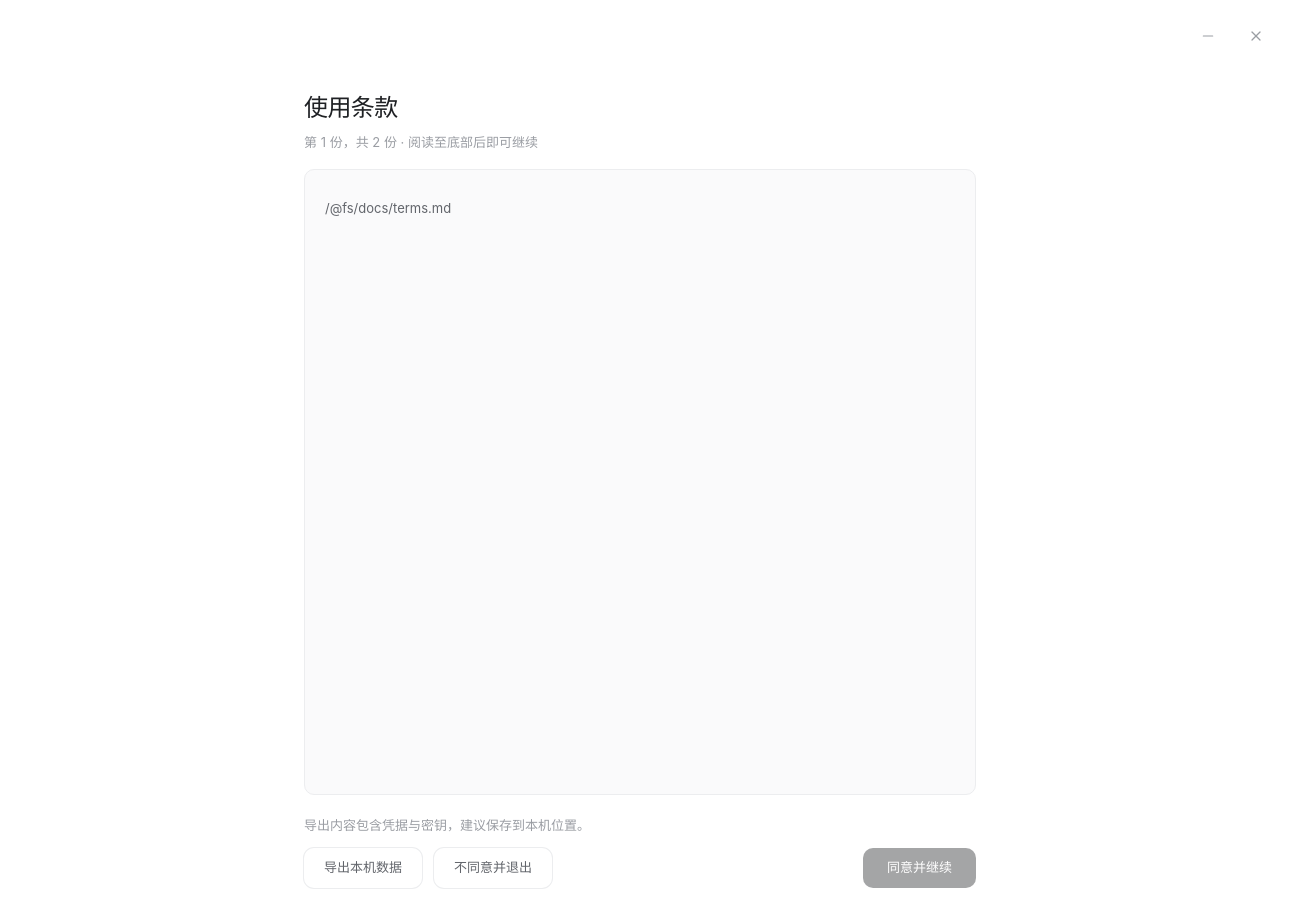
Test: 保存位置不能用时说清原因，不让人反复重试
The width and height of the screenshot is (1292, 912).
Click the button "导出本机数据": (363, 868) x1=304 y1=848 x2=422 y2=888
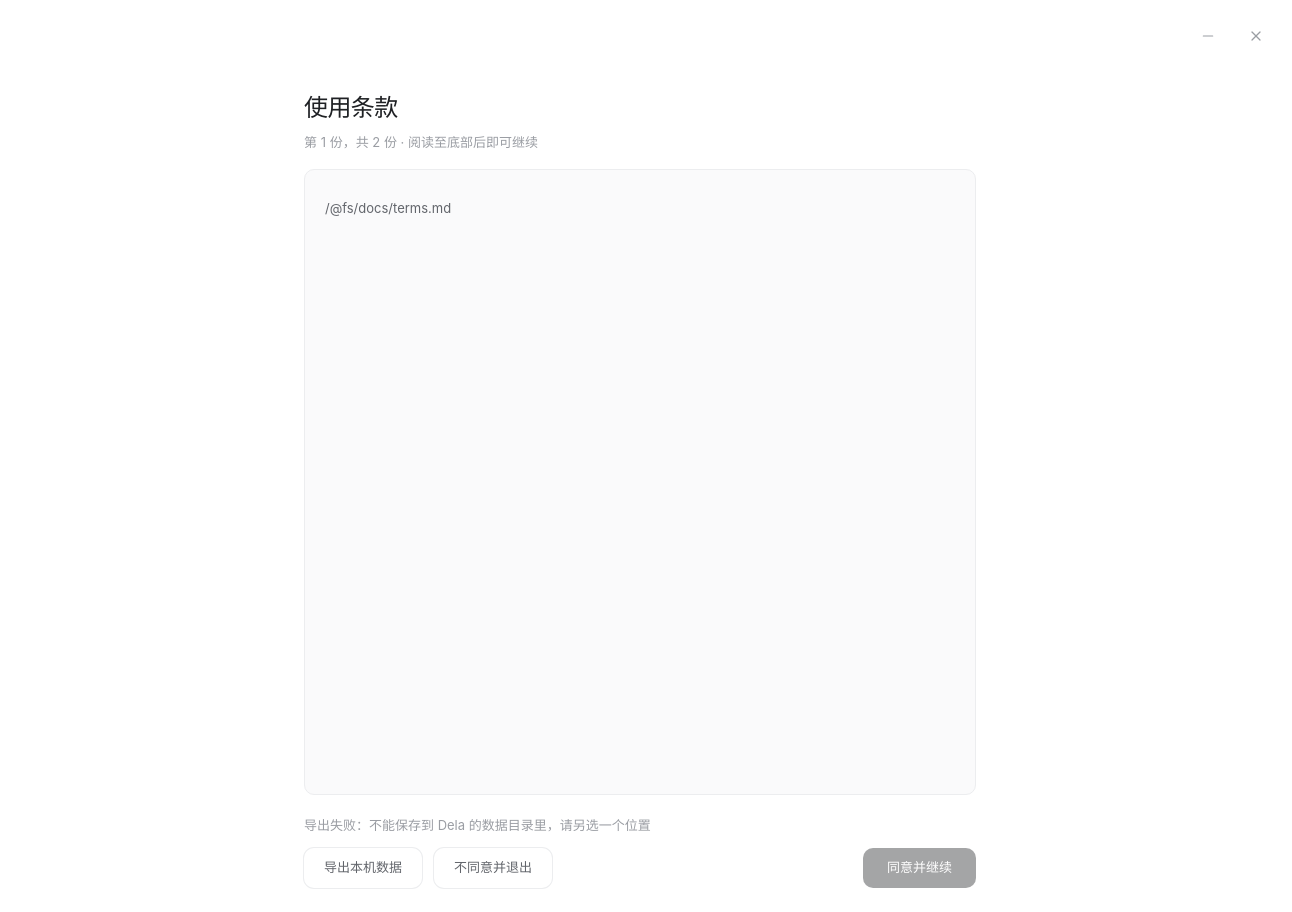
Now the text "不能保存到 Dela 的数据目录里，请另选一个位置" is shown, box x1=304 y1=817 x2=651 y2=833
